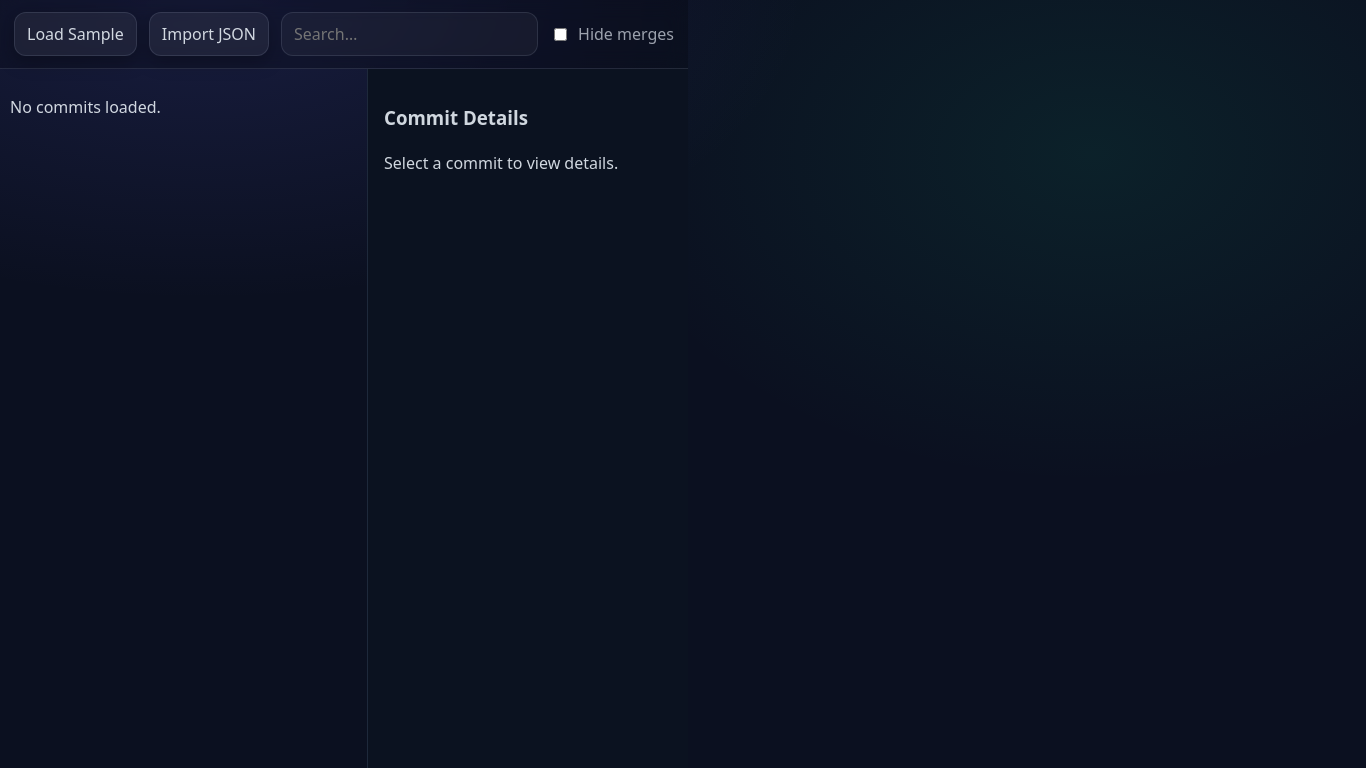
App skeleton › filters commits by search query
Click the button "Load Sample" at (75, 34), box [14,12,137,56]
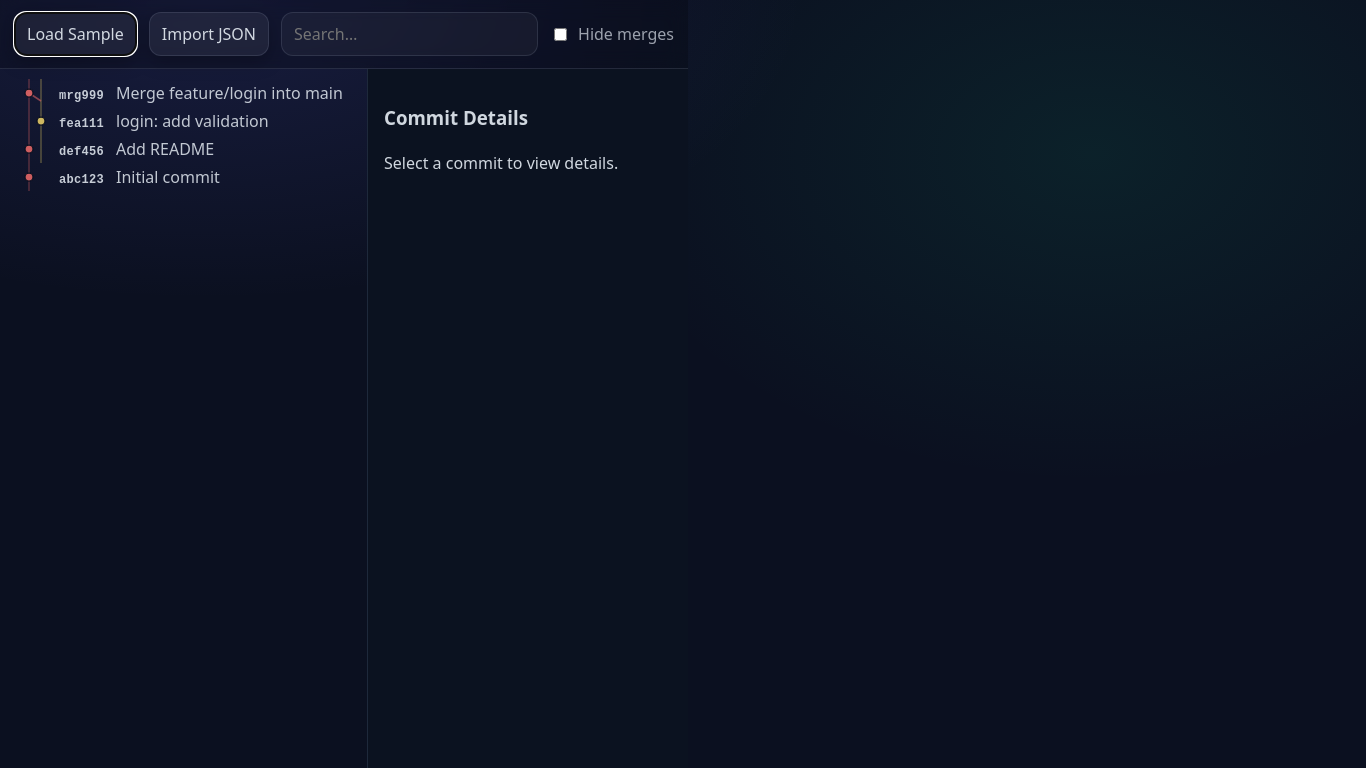
Type "readme" into the field labelled "Search…" at (410, 34), box [281,12,538,56]
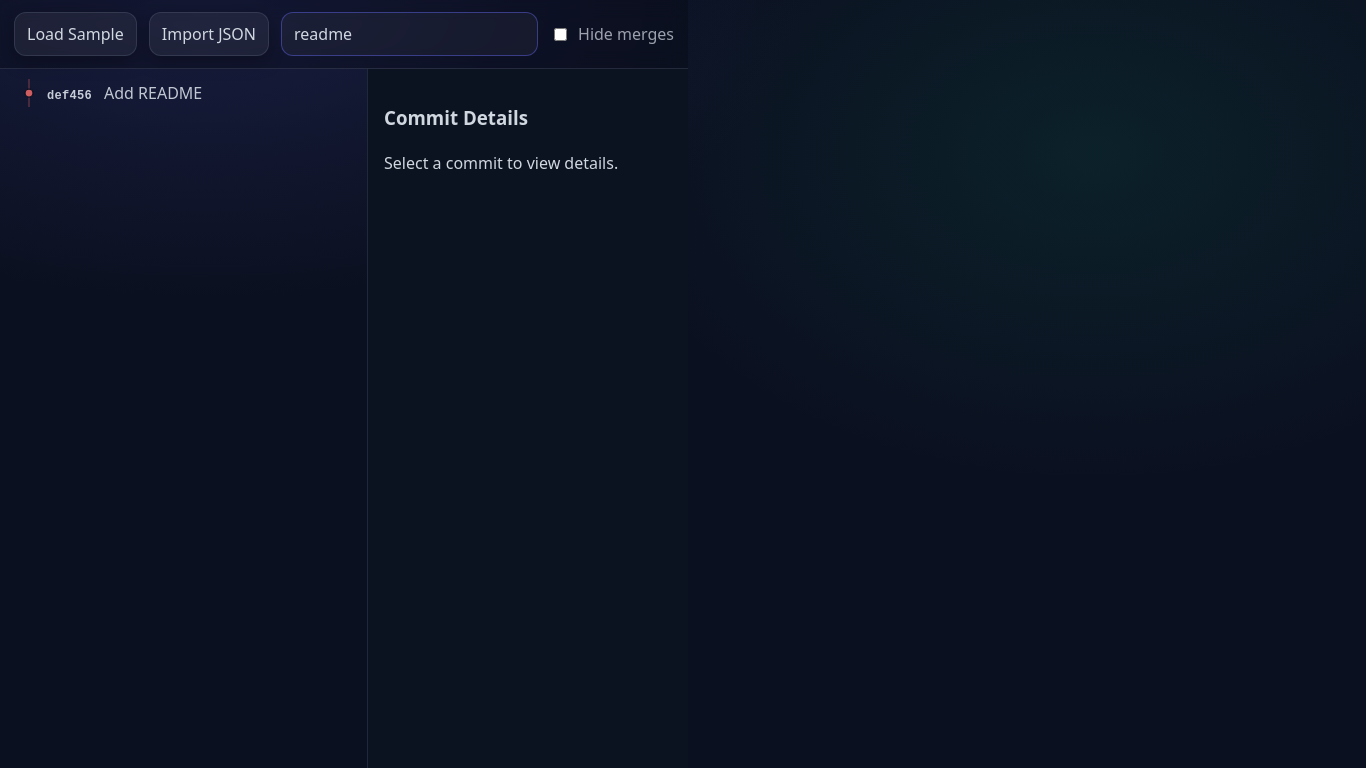
Expected: the text "def456" is shown, [47,87,92,105]
Expected: the button "fea111" is gone
